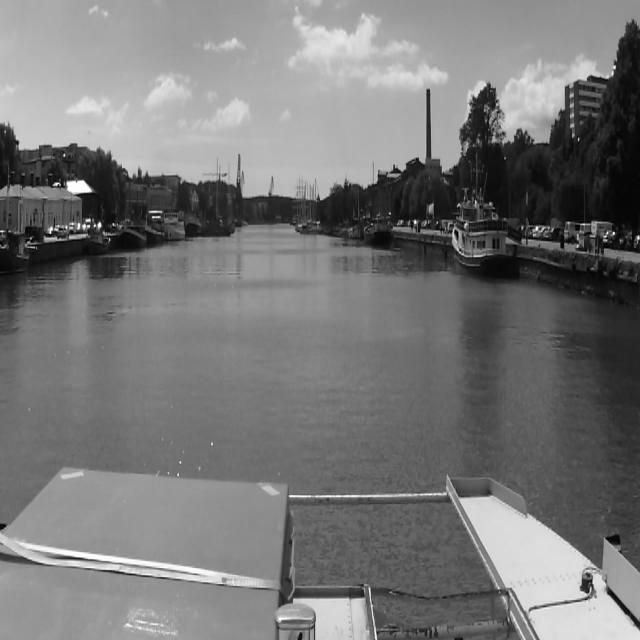ship: (452, 207, 508, 271), (361, 211, 394, 247), (1, 233, 28, 277), (192, 215, 236, 240), (121, 220, 151, 252), (162, 204, 186, 240), (142, 220, 169, 244), (346, 207, 361, 237)
